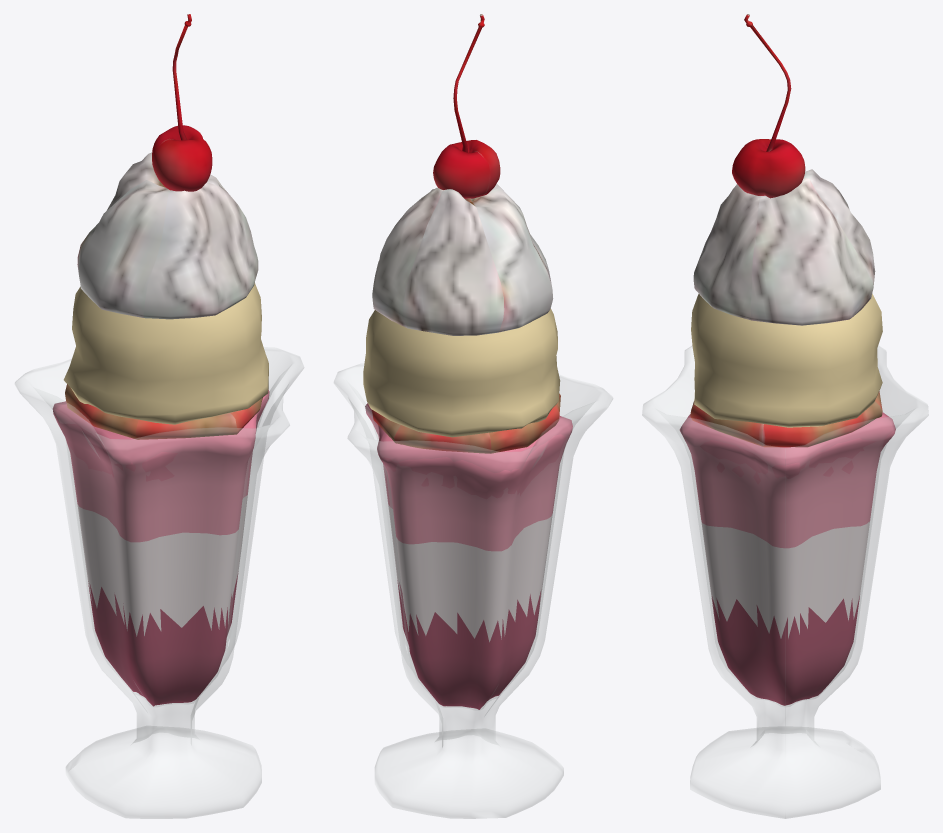
File: falooda.D3PTvQ45.glb
3 renders of one model, left to right at view 1: azimuth 30°, elevation 25°; view 2: azimuth 150°, elevation 25°; view 3: azimuth 270°, elevation 25°, orthographic. The views are drawn at different scales.
Visible parts, largest first — view 1: showpiece_falooda; view 2: showpiece_falooda; view 3: showpiece_falooda.
Boxes of the visible parts, left/top/right/bottom form: showpiece_falooda: left=15, top=14, right=303, bottom=818; showpiece_falooda: left=334, top=14, right=612, bottom=818; showpiece_falooda: left=642, top=14, right=928, bottom=818.
Bounding box in the file's own units: 0.3313 × 1 × 0.3406.
6 materials, 1 textured.
